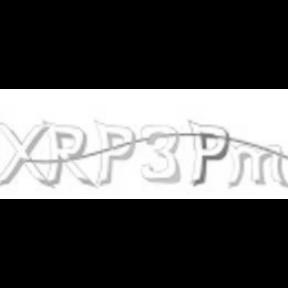3: (142, 124, 180, 184)
P: (186, 118, 230, 186), (94, 119, 134, 185)
R: (45, 121, 97, 189)
X: (0, 122, 50, 186)
m: (227, 142, 287, 188)
